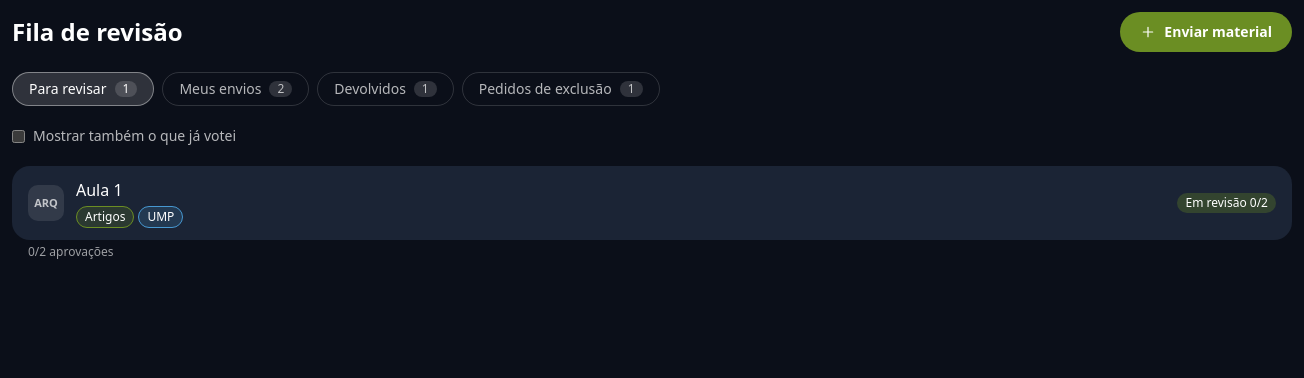
Test: ReviewQueuePage — curador › quem já votou na versão atual não vê o item pendente; o interruptor mostra tudo
Expected: the text "Aula 1" is shown, left=76, top=179, right=122, bottom=201
Click the checkbox labelled "Mostrar também o que já votei".
click(18, 136)  # box left=12, top=130, right=25, bottom=142
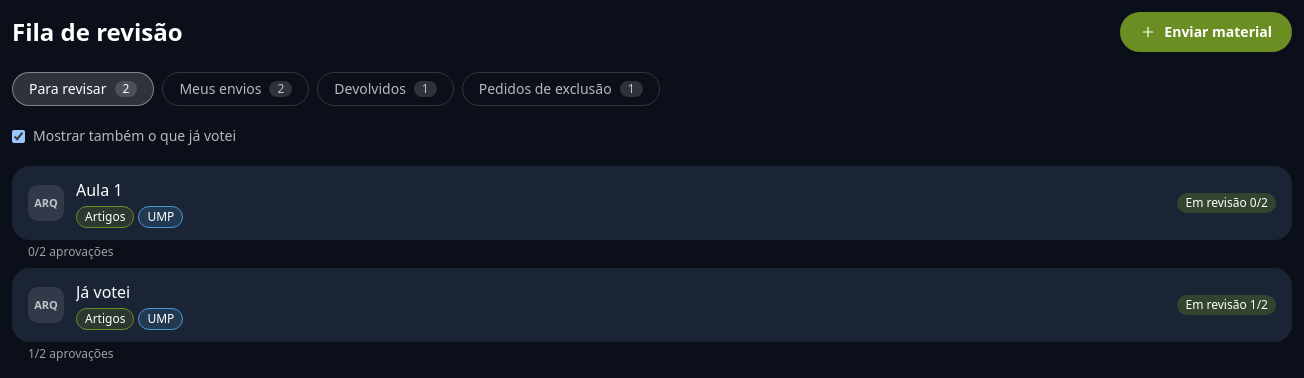
Now the text "Já votei" is shown, box left=76, top=281, right=130, bottom=303
